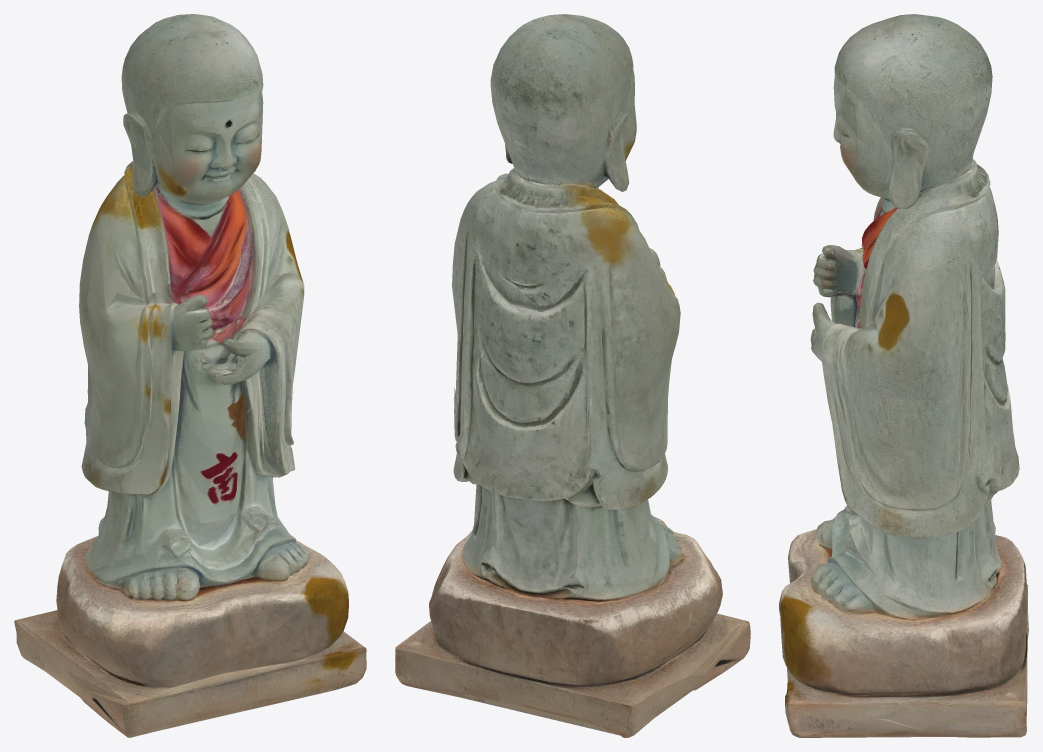
File: jizo.glb
3 renders of one model, left to right at view 1: azimuth 30°, elevation 25°; view 2: azimuth 150°, elevation 25°; view 3: azimuth 270°, elevation 25°, orthographic. The views are drawn at different scales.
Parts seen in each view (by area): view 1: Mesh_0; view 2: Mesh_0; view 3: Mesh_0.
Part boxes in pixels (<box>): Mesh_0: <box>14,14,366,737</box>; Mesh_0: <box>395,14,750,737</box>; Mesh_0: <box>779,14,1028,737</box>.
Bounding box in the file's own units: 0.7516 × 1.9 × 0.6482.
Materials: 1 (1 with a texture image).
